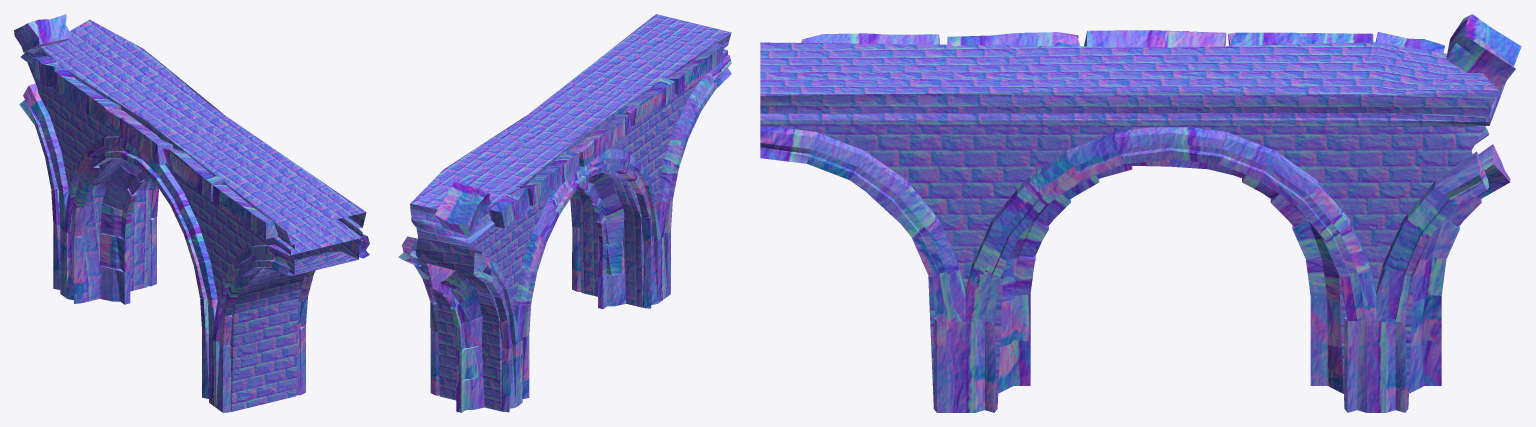
The model's file is ARCHS_SHORT_LOD2.fbx.
The picture shows the model from 3 angles, left to right: view 1: azimuth 30°, elevation 25°; view 2: azimuth 150°, elevation 25°; view 3: azimuth 270°, elevation 25°; orthographic projection. The views are drawn at different scales.
Visible parts, largest first — view 1: ARCHS_SHORT; view 2: ARCHS_SHORT; view 3: ARCHS_SHORT.
Part boxes in pixels (x1,y1,x2,y2): ARCHS_SHORT: (14,14,369,412); ARCHS_SHORT: (398,14,731,412); ARCHS_SHORT: (760,14,1521,412).
Size of the model in its own units: 309 by 742 by 1483.
1 material, 1 textured.
